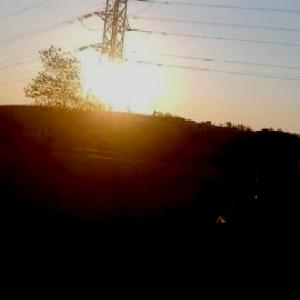follow: (211, 153, 299, 299)
